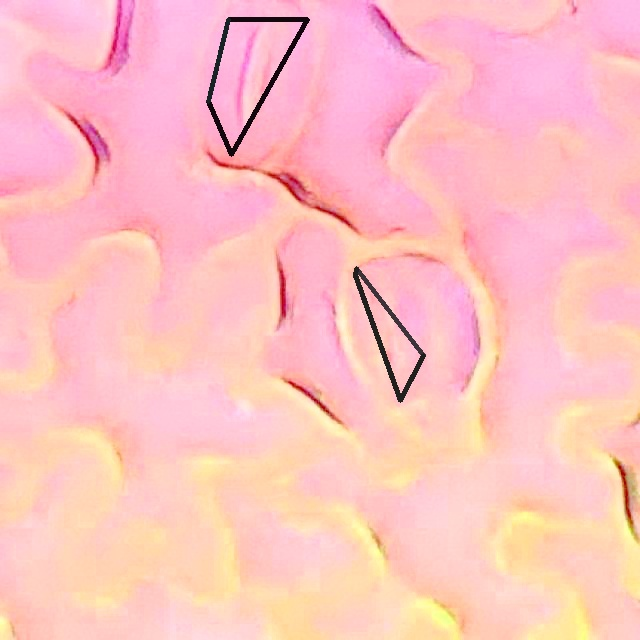close: (353, 266, 425, 402)
open: (206, 17, 309, 156)
